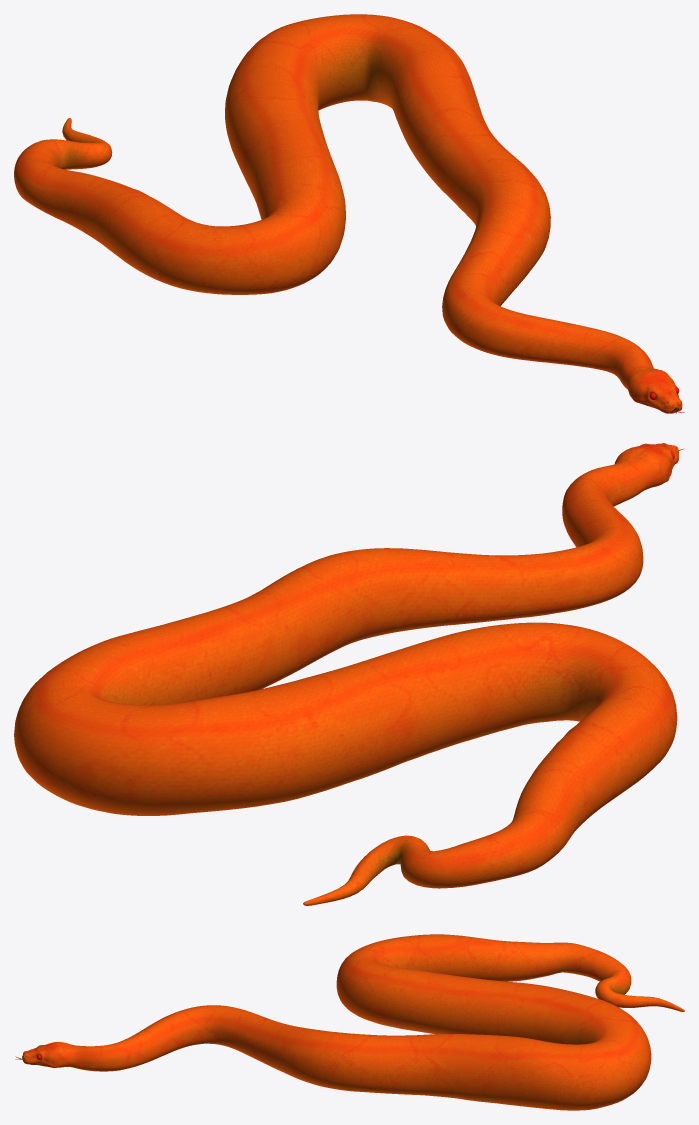
File: Snake.glb
The picture shows the model from 3 angles, top to bottom: view 1: azimuth 30°, elevation 25°; view 2: azimuth 150°, elevation 25°; view 3: azimuth 270°, elevation 25°; orthographic projection. The views are drawn at different scales.
Visible parts, largest first — view 1: snake.1; view 2: snake.1; view 3: snake.1.
Part boxes in pixels (x1,y1,x2,y2): snake.1: [14, 14, 684, 414]; snake.1: [14, 443, 684, 905]; snake.1: [15, 934, 684, 1110].
Bounding box in the file's own units: 0.0623 × 0.012 × 0.1159.
Materials: 1 (1 with a texture image).
